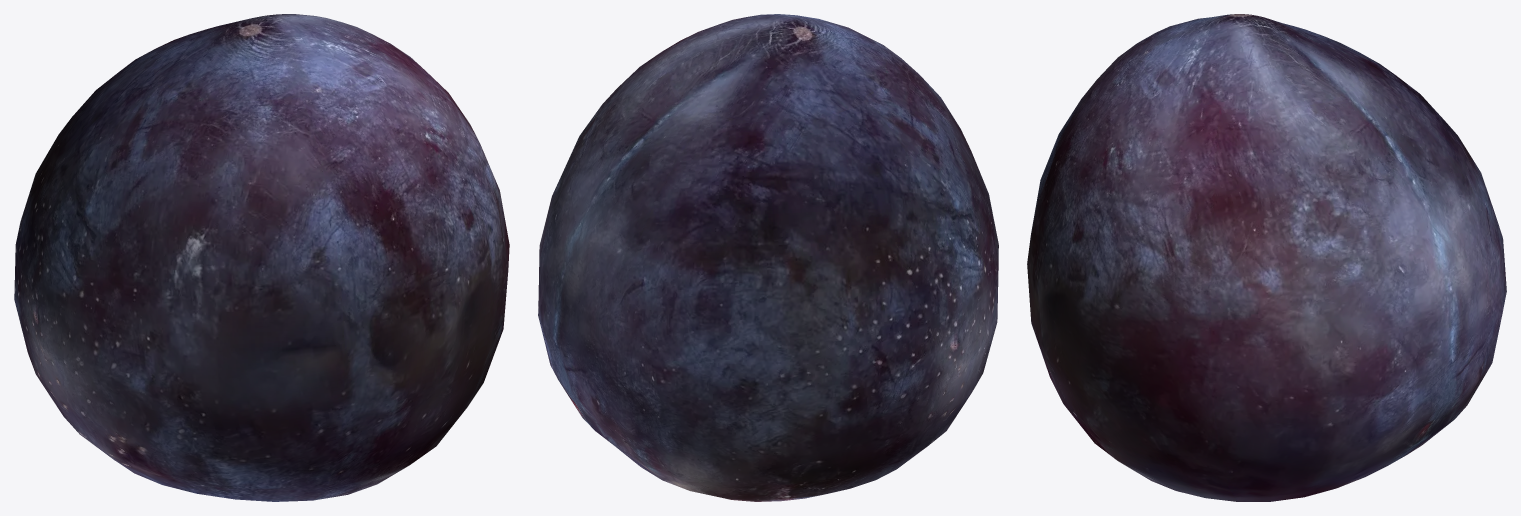
The model's file is 静物_水果_plum_opt.glb.
3 renders of one model, left to right at view 1: azimuth 30°, elevation 25°; view 2: azimuth 150°, elevation 25°; view 3: azimuth 270°, elevation 25°, orthographic. The views are drawn at different scales.
Visible parts, largest first — view 1: Object_2; view 2: Object_2; view 3: Object_2.
Part boxes in pixels (x1,y1,x2,y2): Object_2: (14,14,509,501); Object_2: (538,14,998,501); Object_2: (1027,14,1506,501).
Size of the model in its own units: 0.0984 by 0.1 by 0.0994.
1 material, 1 textured.
